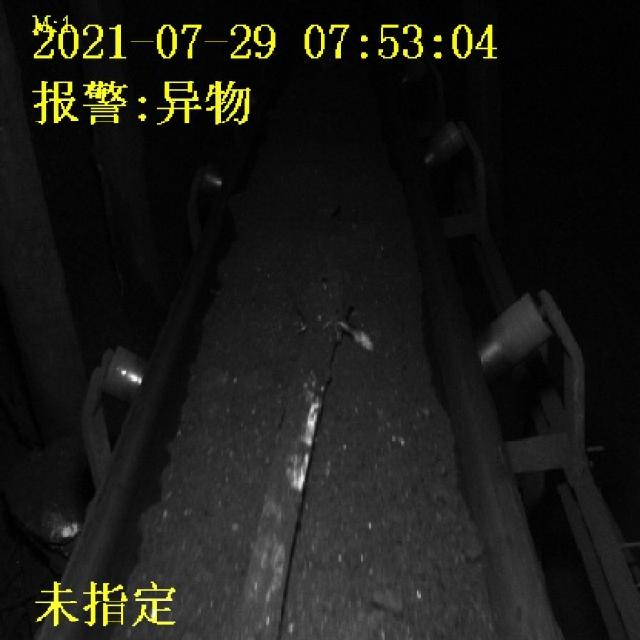bolt: (244, 307, 370, 640)
